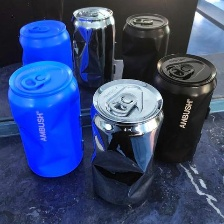can: (89, 75, 165, 211), (4, 59, 85, 179), (151, 51, 219, 168), (68, 4, 118, 91), (117, 11, 169, 84), (15, 16, 74, 69)
